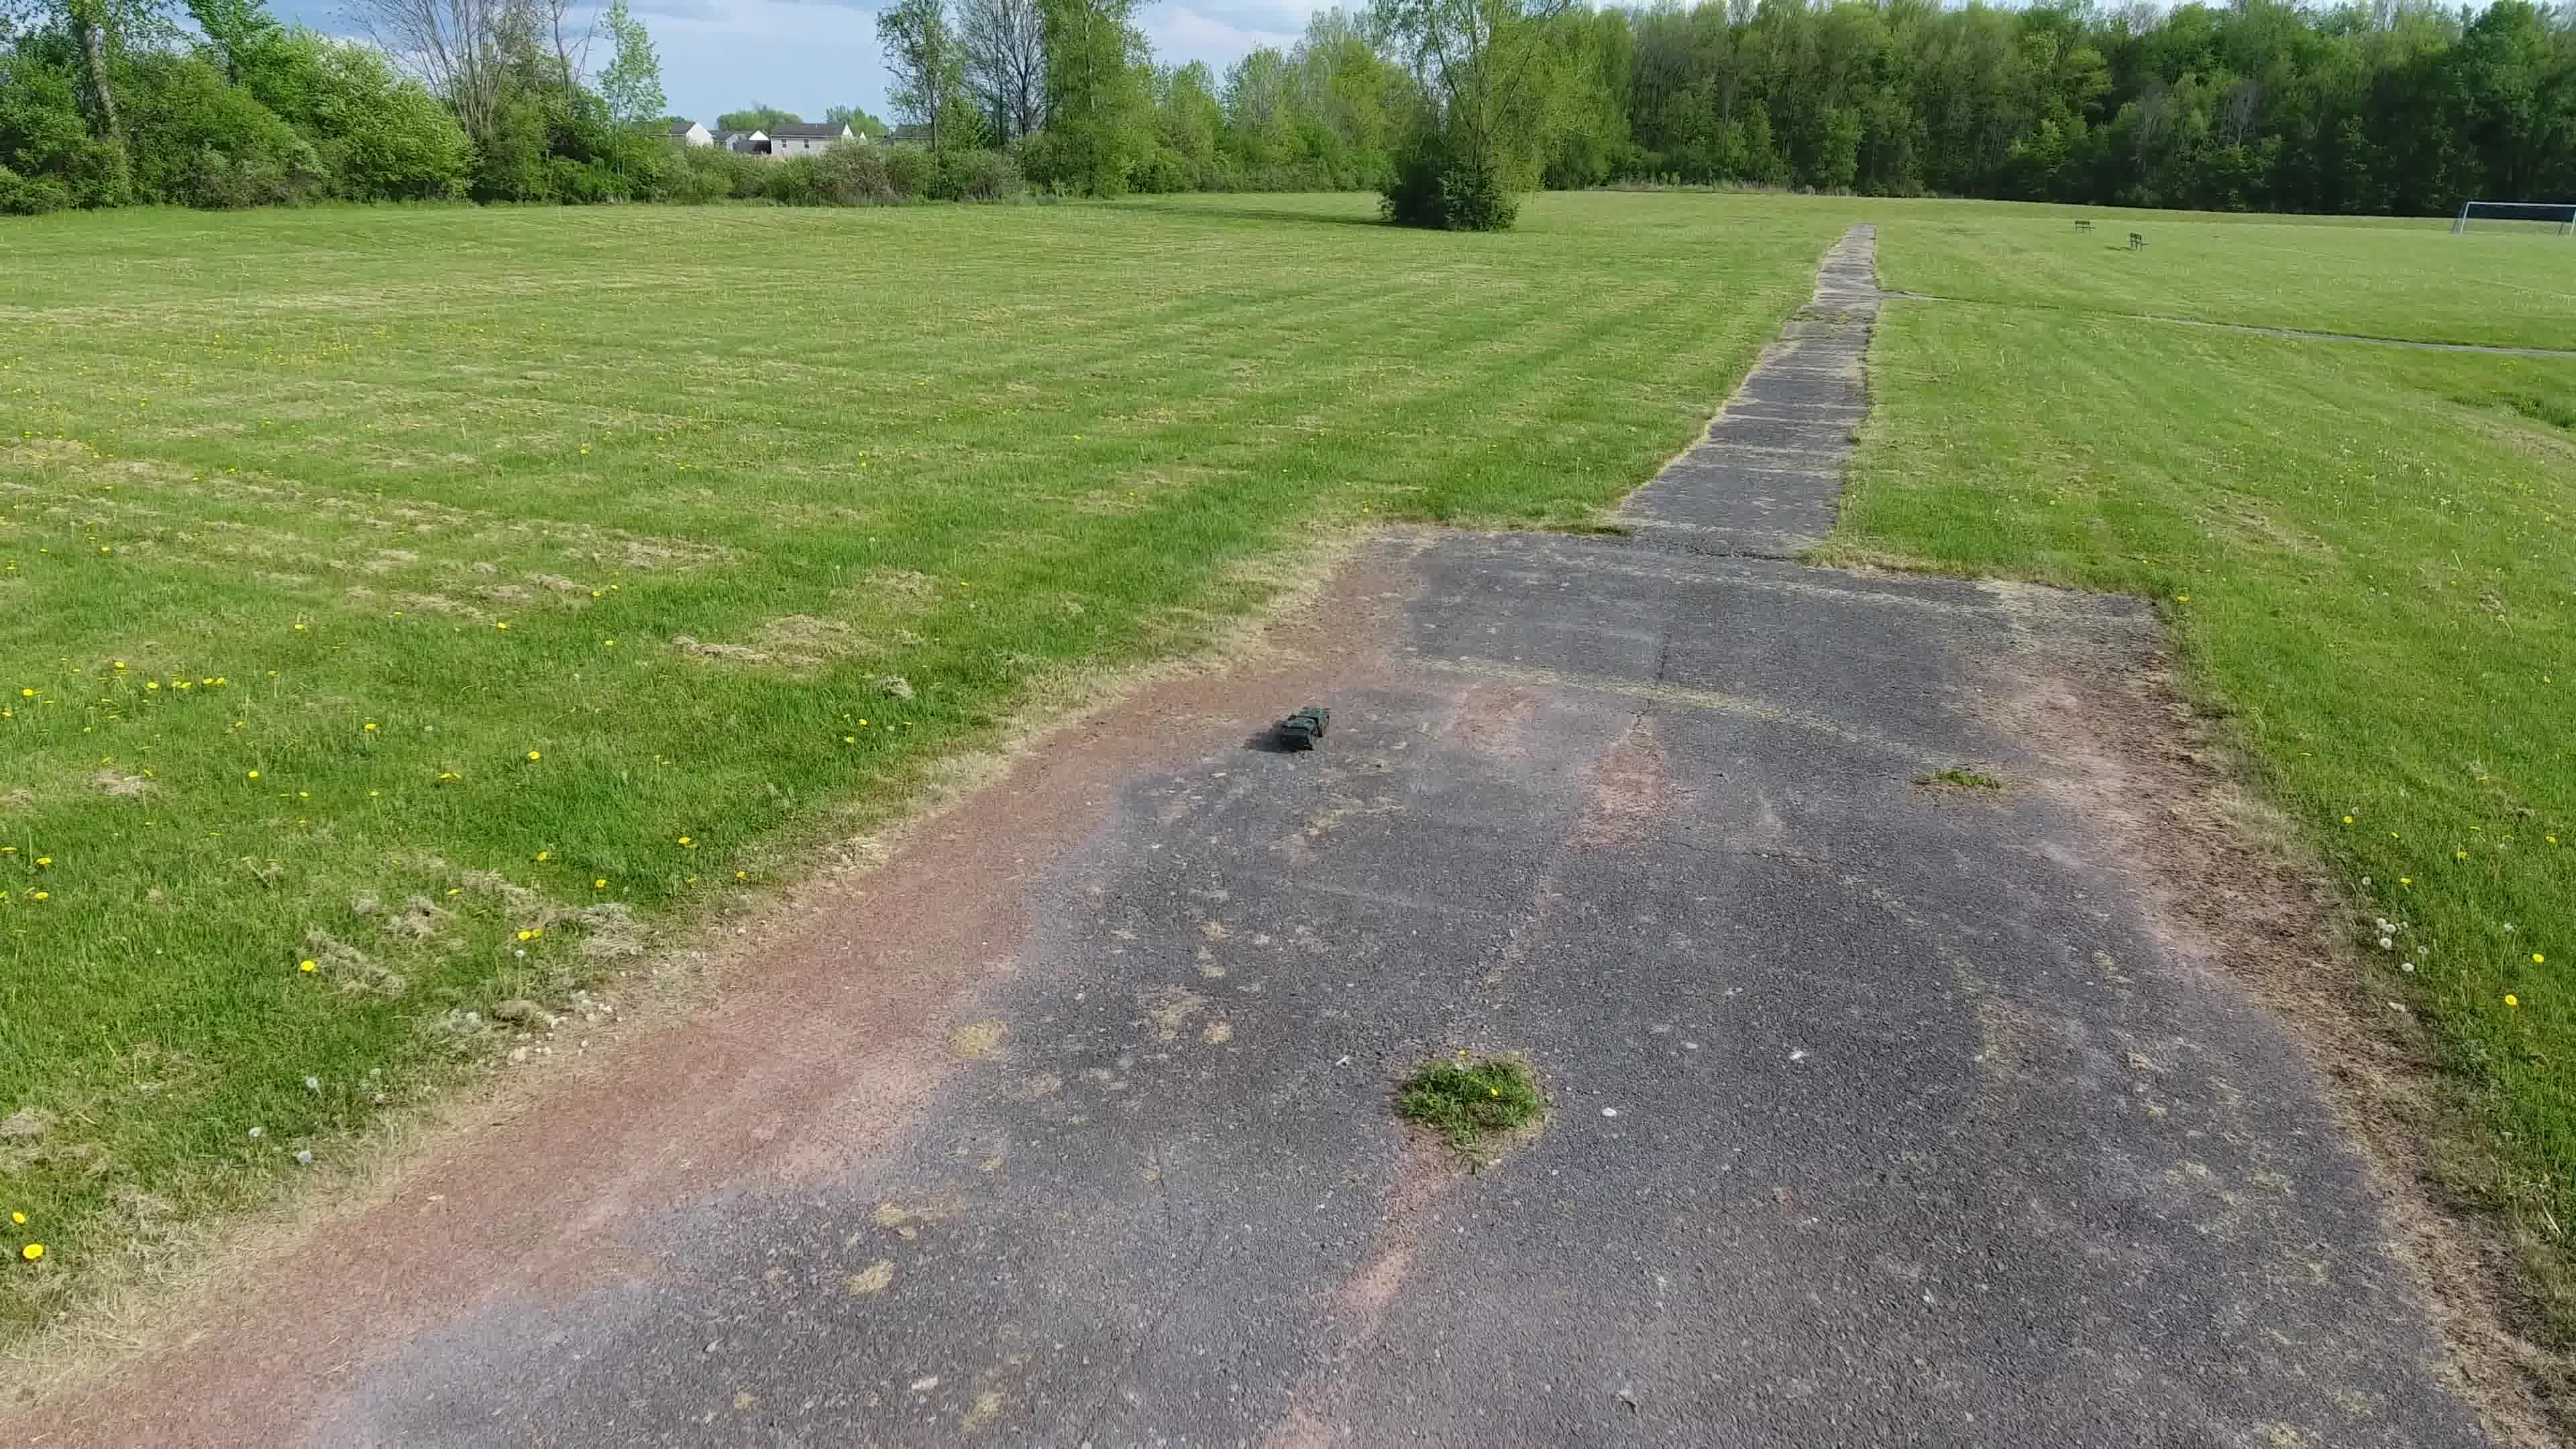transporter9_camo: (1276, 704, 1332, 752)
